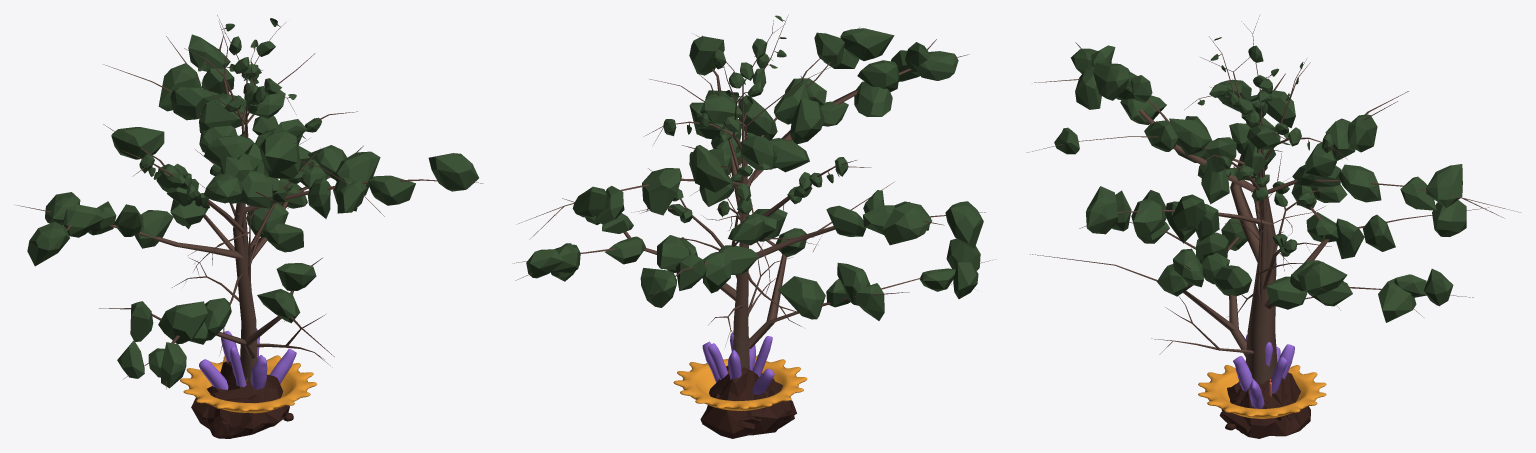
The model's file is MyLittleEnvironment.fbx.
3 renders of one model, left to right at view 1: azimuth 30°, elevation 25°; view 2: azimuth 150°, elevation 25°; view 3: azimuth 270°, elevation 25°, orthographic. The views are drawn at different scales.
Parts seen in each view (by area): view 1: Tree.002, Tree, Coral1, Coral, Rock2, Rock3, Tree.001; view 2: Tree.002, Tree, Rock3, Coral1, Coral, Tree.001, Rock2; view 3: Tree.002, Tree, Coral1, Rock3, Coral, Tree.001, Rock2.
Part boxes in pixels (<box>): Tree.002: <box>14,34,483,389</box>; Tree: <box>120,15,357,290</box>; Coral1: <box>180,355,316,413</box>; Coral: <box>199,329,296,389</box>; Rock2: <box>202,386,289,438</box>; Rock3: <box>191,361,284,438</box>; Tree.001: <box>172,178,332,367</box>; Tree.002: <box>512,27,996,369</box>; Tree: <box>631,15,871,278</box>; Rock3: <box>700,365,796,438</box>; Coral1: <box>673,355,807,410</box>; Coral: <box>702,332,774,394</box>; Tree.001: <box>679,155,821,346</box>; Rock2: <box>706,373,794,429</box>; Tree.002: <box>1026,42,1521,384</box>; Tree: <box>1184,15,1347,305</box>; Coral1: <box>1198,365,1326,418</box>; Rock3: <box>1224,372,1310,438</box>; Coral: <box>1233,334,1294,408</box>; Tree.001: <box>1151,178,1339,354</box>; Rock2: <box>1219,382,1295,433</box>.
Size of the model in its own units: 15.89 by 16.85 by 18.89.
